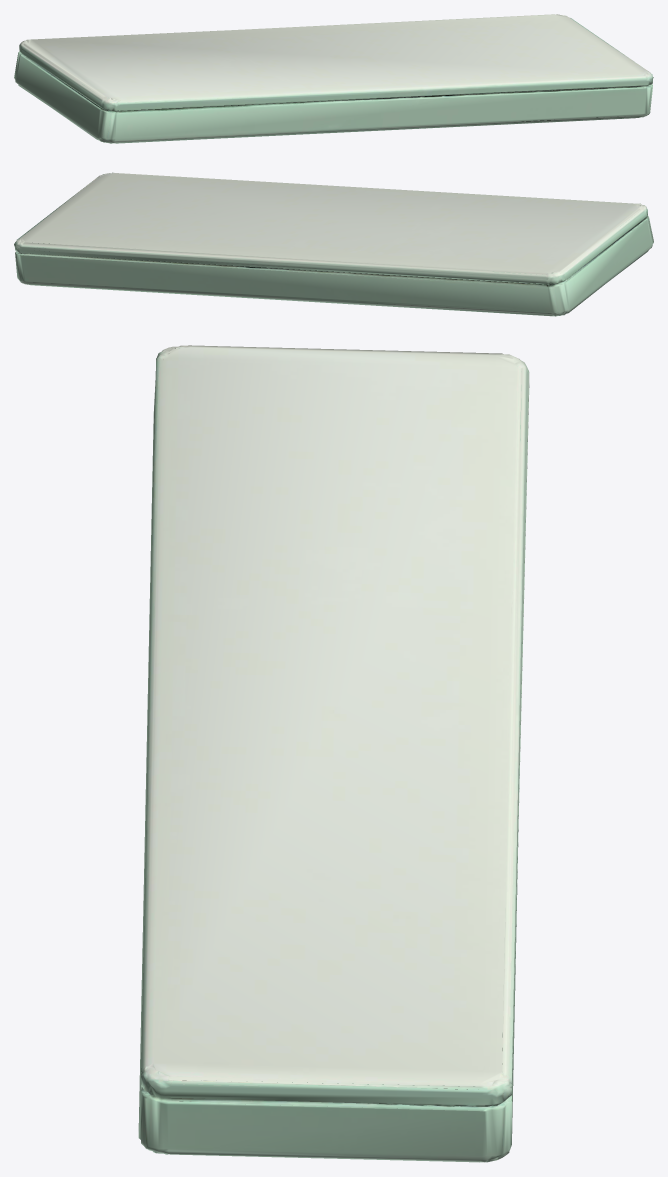
Rendered from ceiling-lights.glb.
3 renders of one model, top to bottom at view 1: azimuth 30°, elevation 25°; view 2: azimuth 150°, elevation 25°; view 3: azimuth 270°, elevation 25°, orthographic. The views are drawn at different scales.
Parts seen in each view (by area): view 1: Ceiling Lights; view 2: Ceiling Lights; view 3: Ceiling Lights.
Boxes of the visible parts, left/top/right/bottom form: Ceiling Lights: left=14, top=14, right=653, bottom=143; Ceiling Lights: left=14, top=172, right=653, bottom=316; Ceiling Lights: left=138, top=345, right=529, bottom=1162.
Size of the model in its own units: 0.998 by 0.2559 by 0.3066.
1 material, 1 textured.
